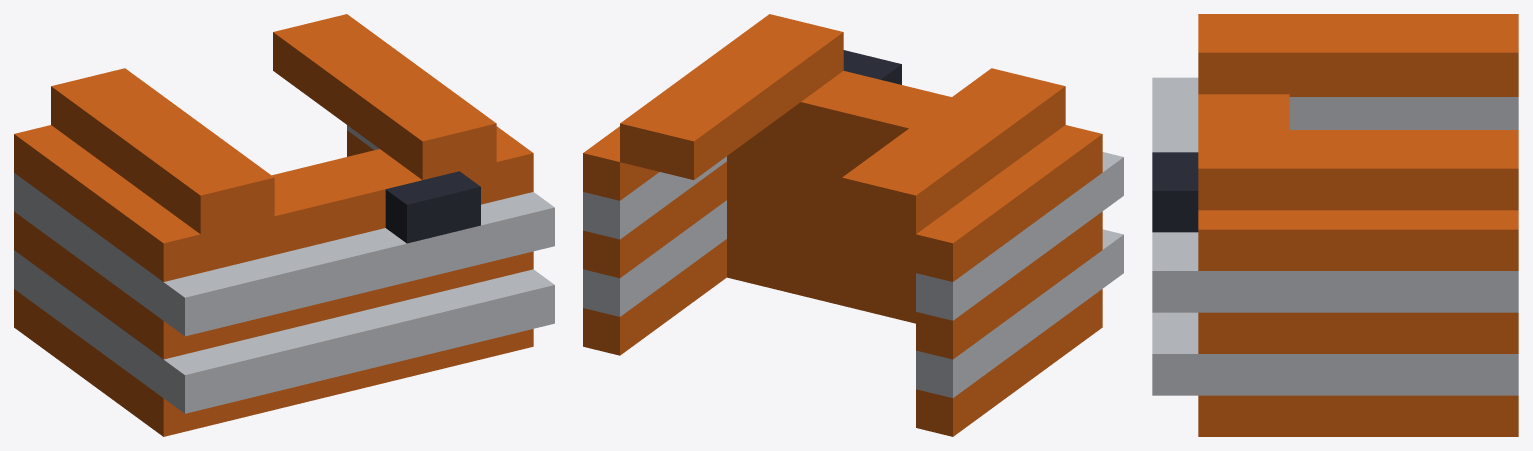
File: gear_bau_vest.glb
The picture shows the model from 3 angles, left to right: view 1: azimuth 30°, elevation 25°; view 2: azimuth 150°, elevation 25°; view 3: azimuth 270°, elevation 25°; orthographic projection. The views are drawn at different scales.
Visible parts, largest first — view 1: body; view 2: body; view 3: body.
Boxes of the visible parts, <box> form: body: <box>14,14,554,436</box>; body: <box>583,14,1123,436</box>; body: <box>1152,14,1518,436</box>.
Size of the model in its own units: 0.6 by 0.36 by 0.48.
